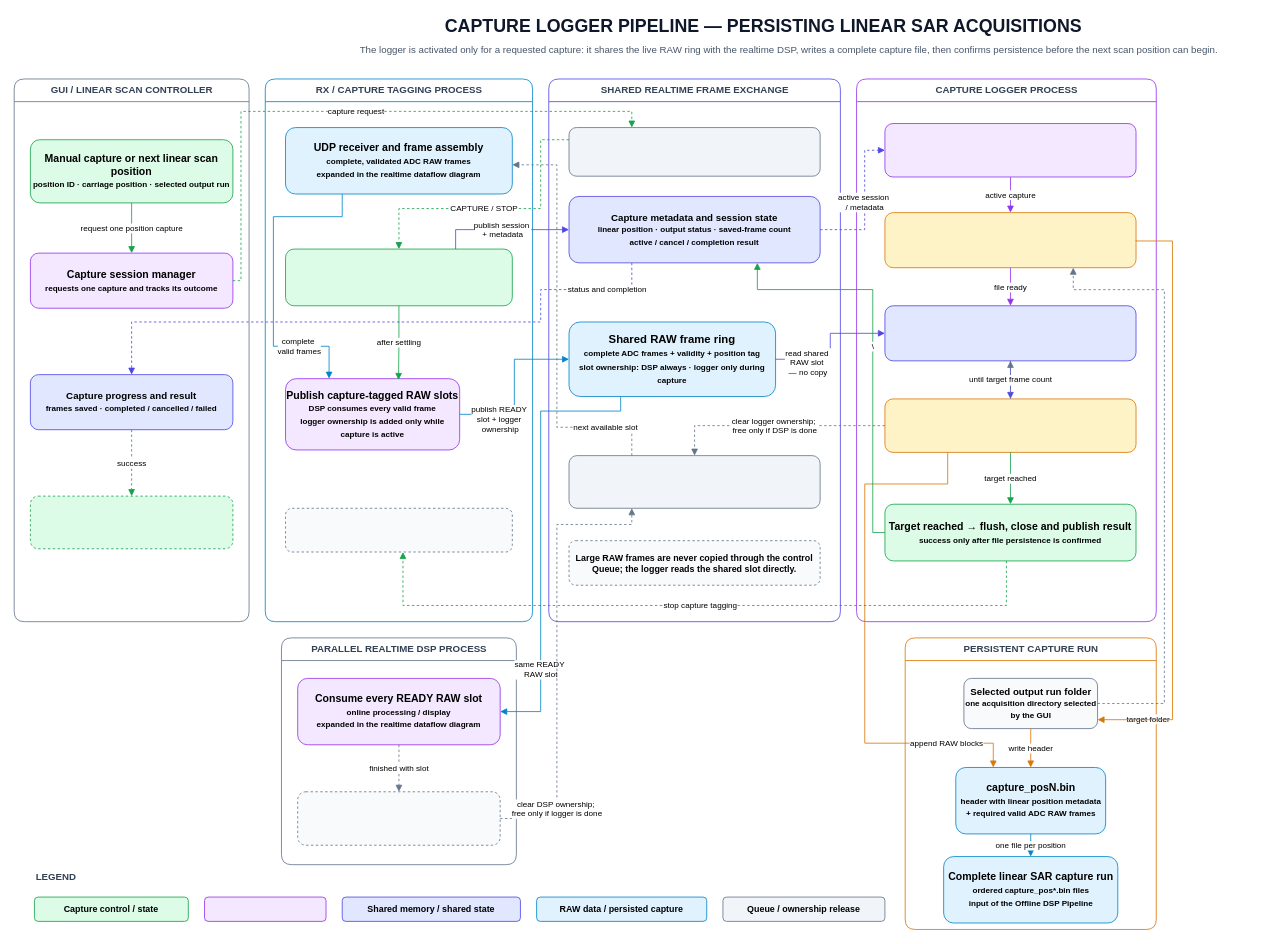
Image size: 1264x944. Some labels were removed from this diagram. Here are the shapes that lost their labels. From the top down, the centre of each, then its label:
the point at 694,151: GUI → RX command Queue CAPTURE / CAPTURE_STOP + capture ID
the point at 1010,150: Detect an active capture session read its metadata and target output run
the point at 1010,240: Open one capture file and write its header capture ID + linear position metadata
the point at 398,277: Receive CAPTURE / STOP request prepare one capture session and wait for settling
the point at 1010,333: Claim valid capture-tagged slots read frames directly from the shared RAW ring
the point at 1010,425: Append valid RAW frames in blocks update saved-frame progress
the point at 694,481: Free-slots Queue slot returns only after every assigned consumer releases it
the point at 131,522: On successful persistence continue the linear scan / enable next capture
the point at 398,529: Stop tagging when the logger has enough valid frames or the capture is cancelled
the point at 398,818: Release DSP ownership a slot becomes free only if logger ownership is also clear
the point at 265,908: Process stage
